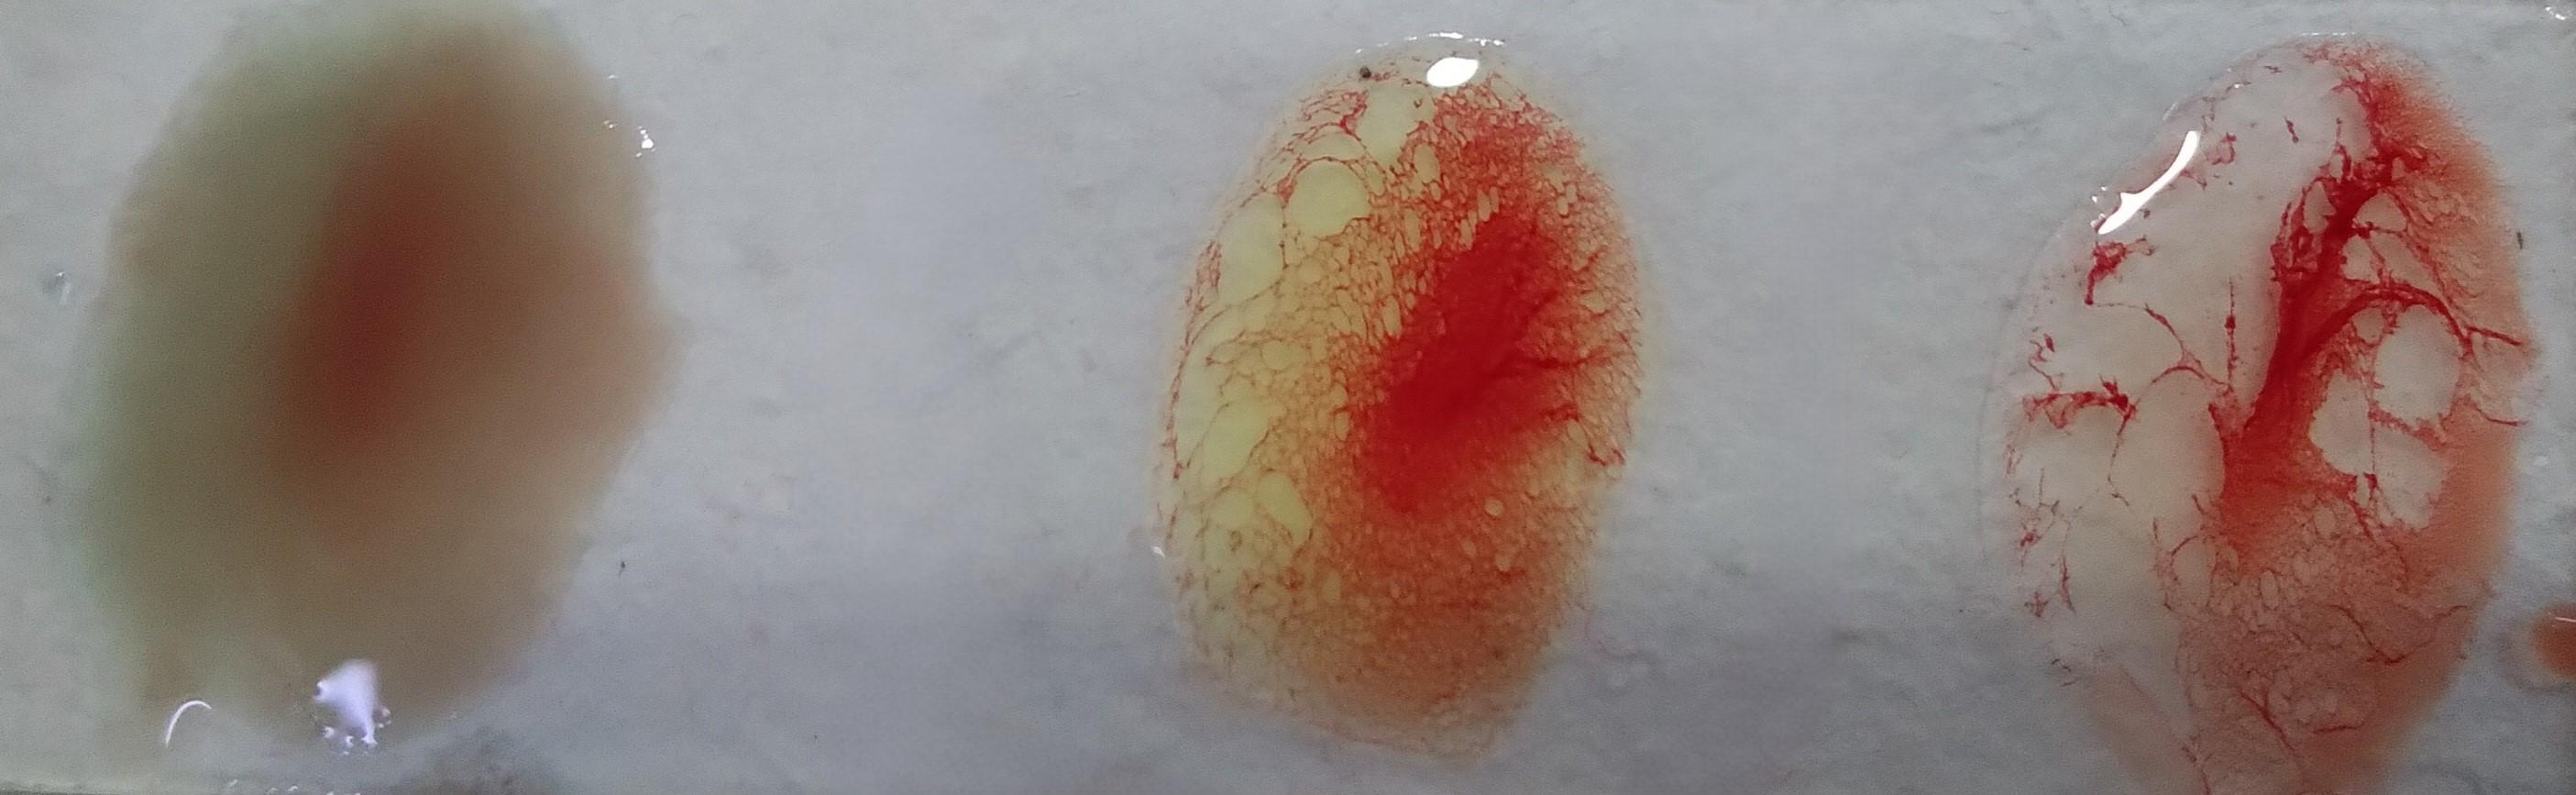B: (1165, 56, 1621, 764)
D: (1999, 56, 2533, 770)
